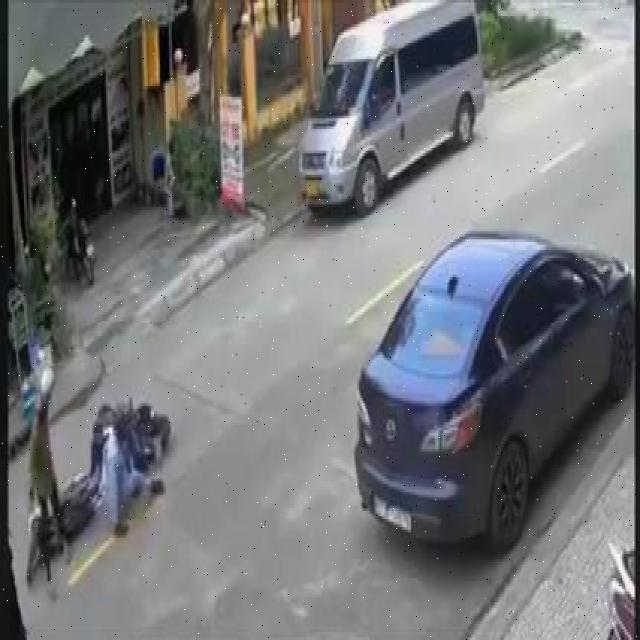accident: (20, 352, 176, 600)
